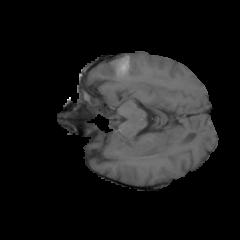glioma: (91, 53, 137, 86)
